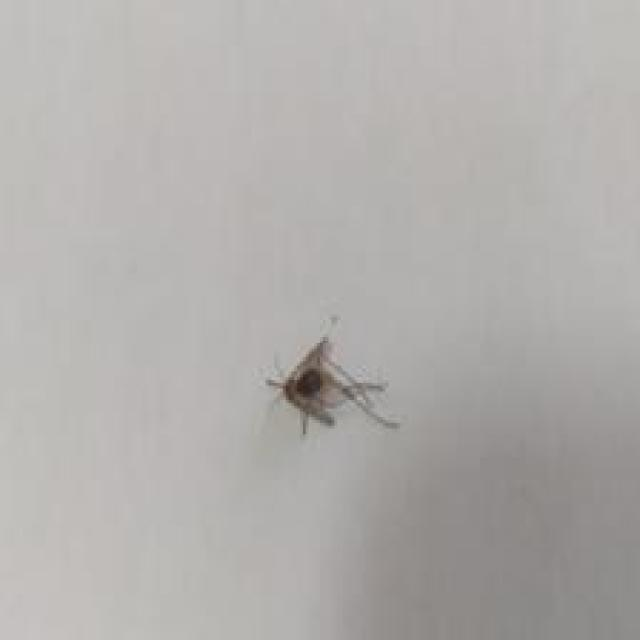Culex: (263, 314, 400, 437)
